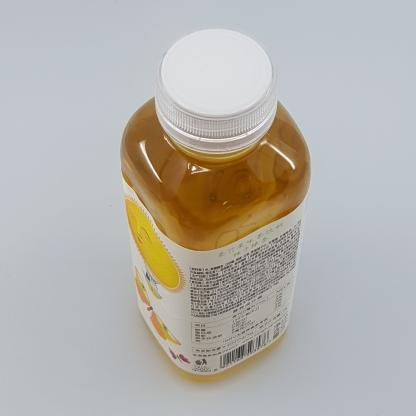------------: (120, 27, 311, 383)
